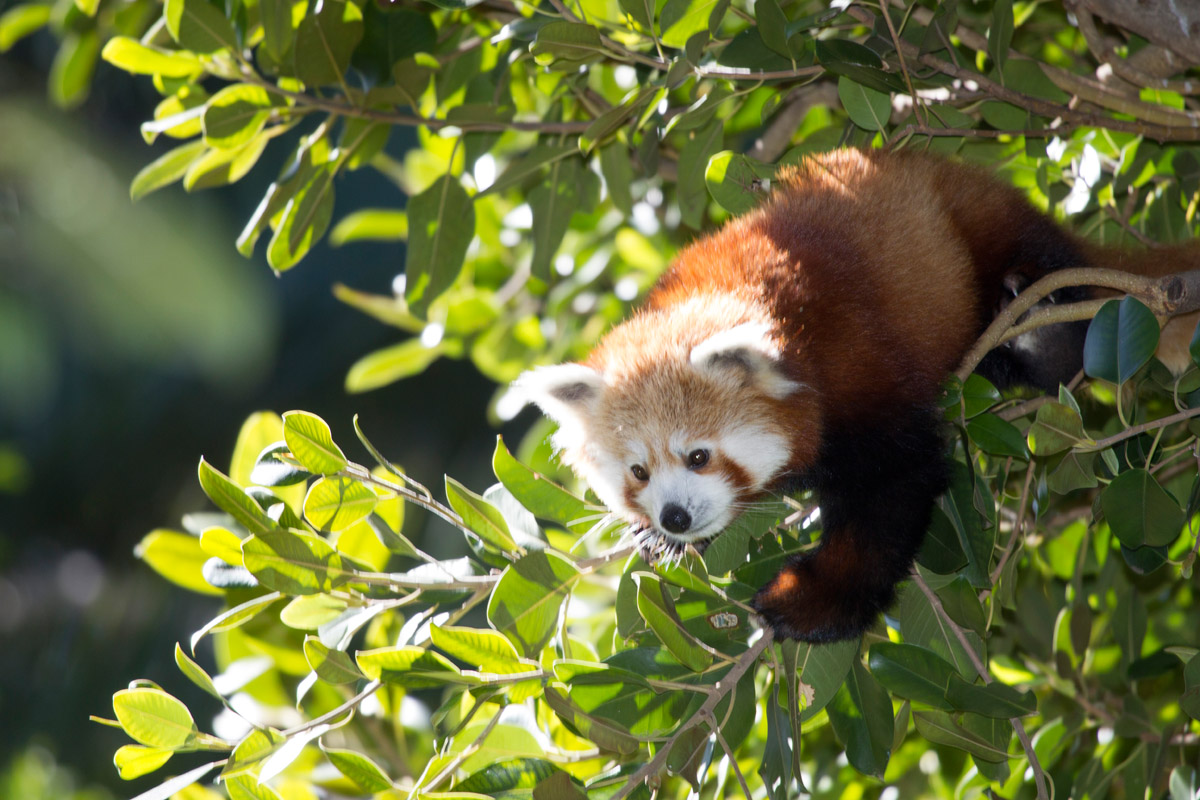red_panda: (547, 154, 1101, 642)
